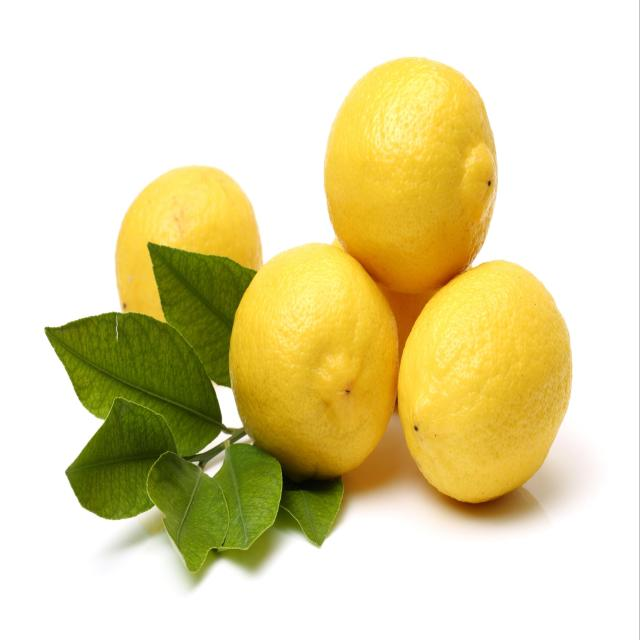lemon: (321, 53, 501, 302)
